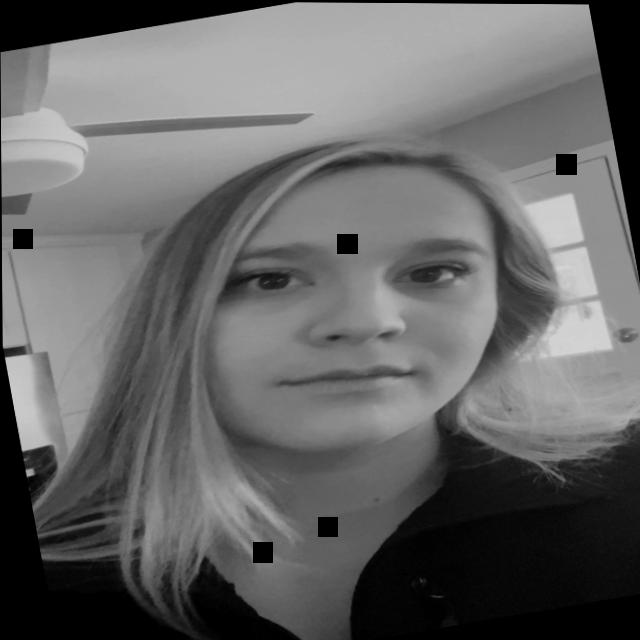NO-Mask: (65, 118, 564, 522)
